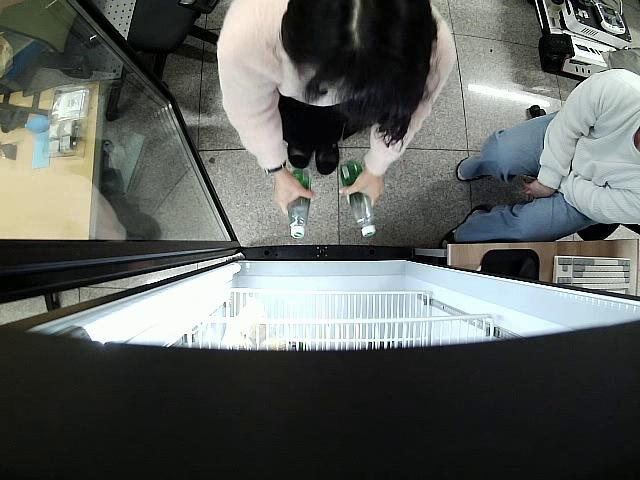18_trevi: (341, 159, 378, 238), (287, 170, 314, 238)
